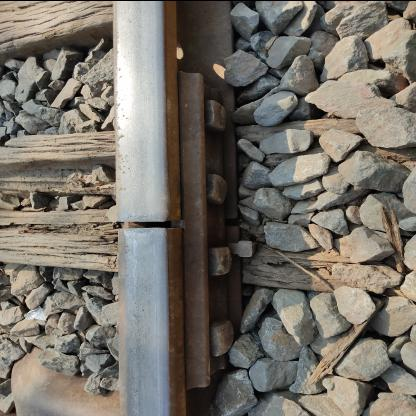Non Defective: (106, 59, 260, 397)
